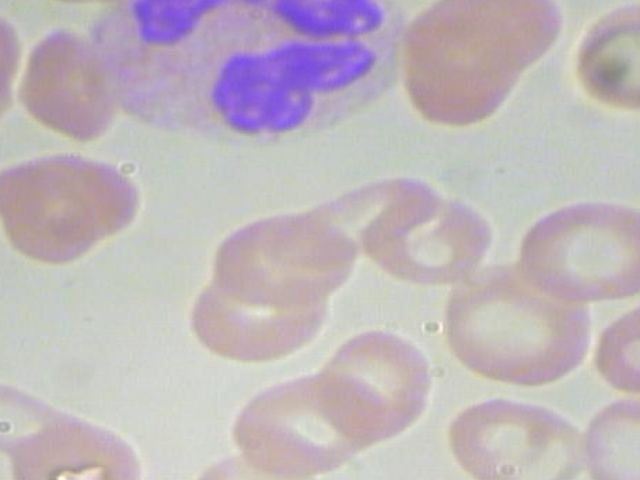Platelets: (0, 204, 2, 255)
RBC: (193, 198, 363, 307), (308, 324, 437, 445), (512, 193, 640, 303), (0, 154, 155, 244), (20, 19, 118, 144), (567, 0, 640, 118), (570, 297, 640, 397), (0, 2, 23, 97), (88, 328, 90, 330)
WBC: (91, 0, 432, 152)
